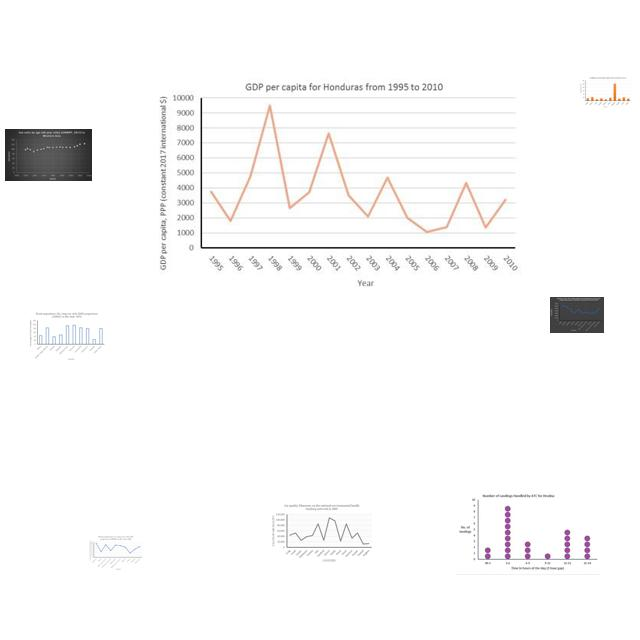Graph: (153, 78, 521, 290), (455, 489, 601, 575), (270, 503, 374, 564), (5, 129, 92, 181), (28, 312, 105, 361), (88, 535, 143, 571), (550, 297, 604, 333), (579, 76, 632, 109)
